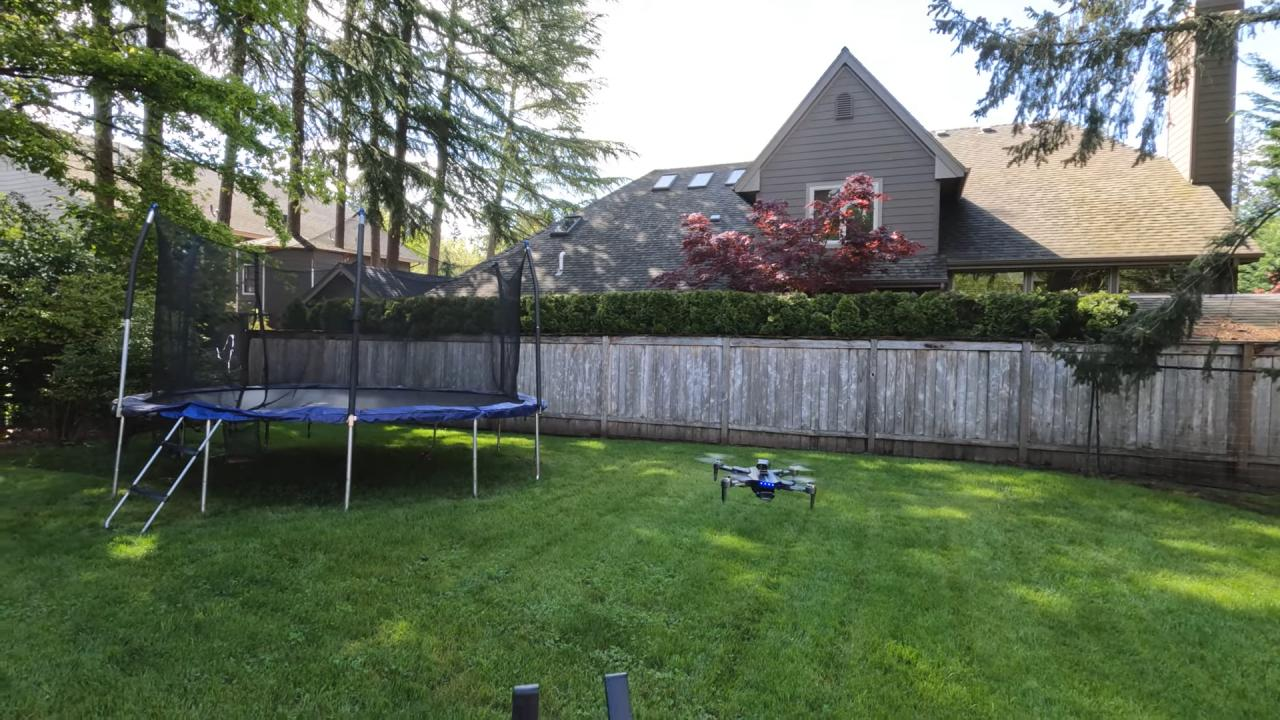Drone: (687, 444, 836, 515)
